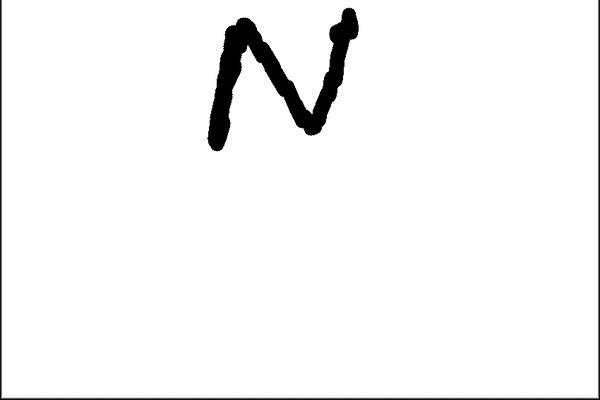N: (202, 3, 364, 151)
